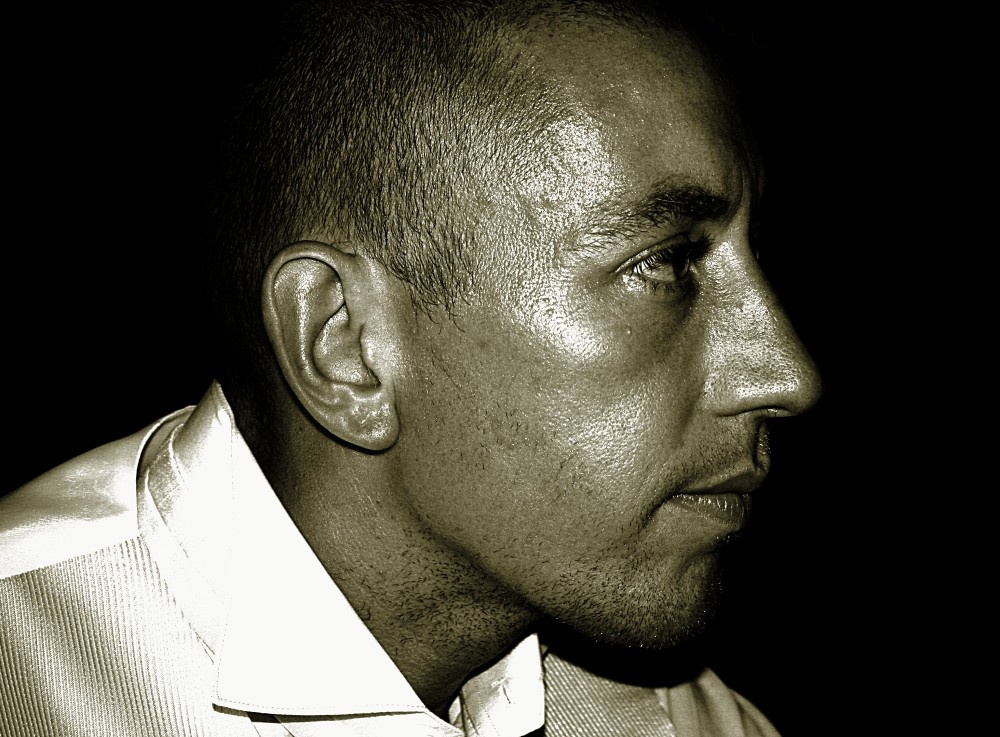without_mask: (197, 37, 821, 681)
